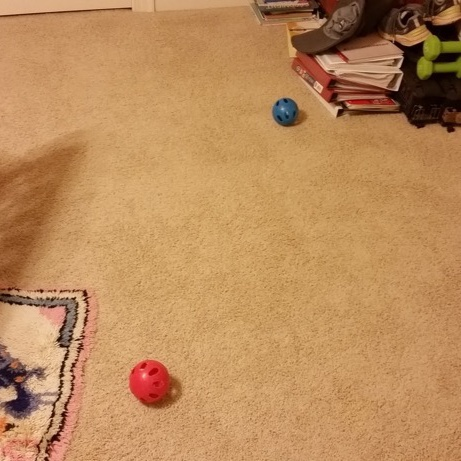blueball: (268, 94, 303, 128)
redball: (125, 354, 174, 406)
